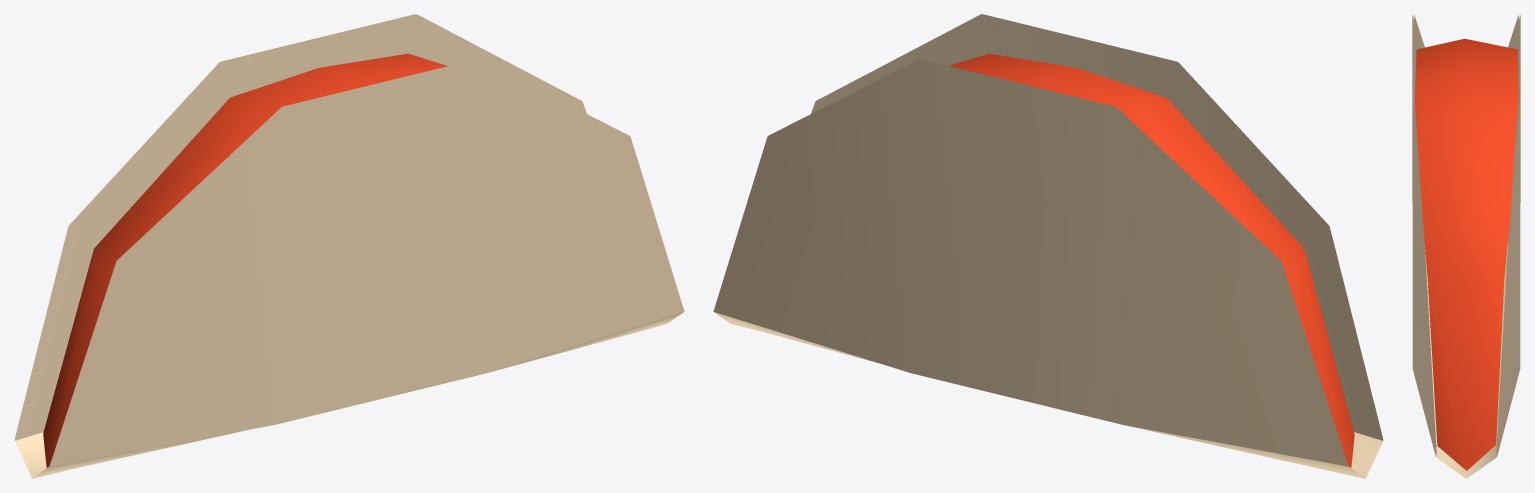
File: Tacos.fbx
The picture shows the model from 3 angles, left to right: view 1: azimuth 30°, elevation 25°; view 2: azimuth 150°, elevation 25°; view 3: azimuth 270°, elevation 25°; orthographic projection. The views are drawn at different scales.
Visible parts, largest first — view 1: Tacos; view 2: Tacos; view 3: Tacos.
Part boxes in pixels (x1,y1,x2,y2): Tacos: (14, 14, 684, 478); Tacos: (713, 14, 1383, 478); Tacos: (1412, 15, 1520, 478).
Bounding box in the file's own units: 202 × 104 × 34.94.
